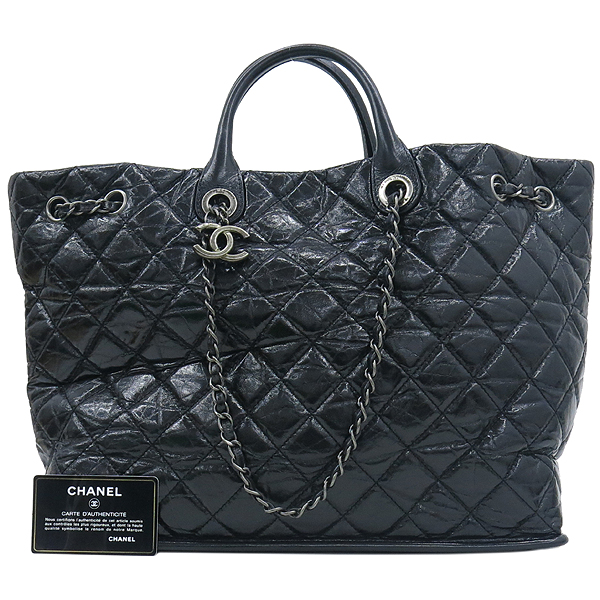channel: (1, 156, 582, 550), (363, 210, 401, 438), (190, 206, 259, 262), (50, 479, 140, 504)
